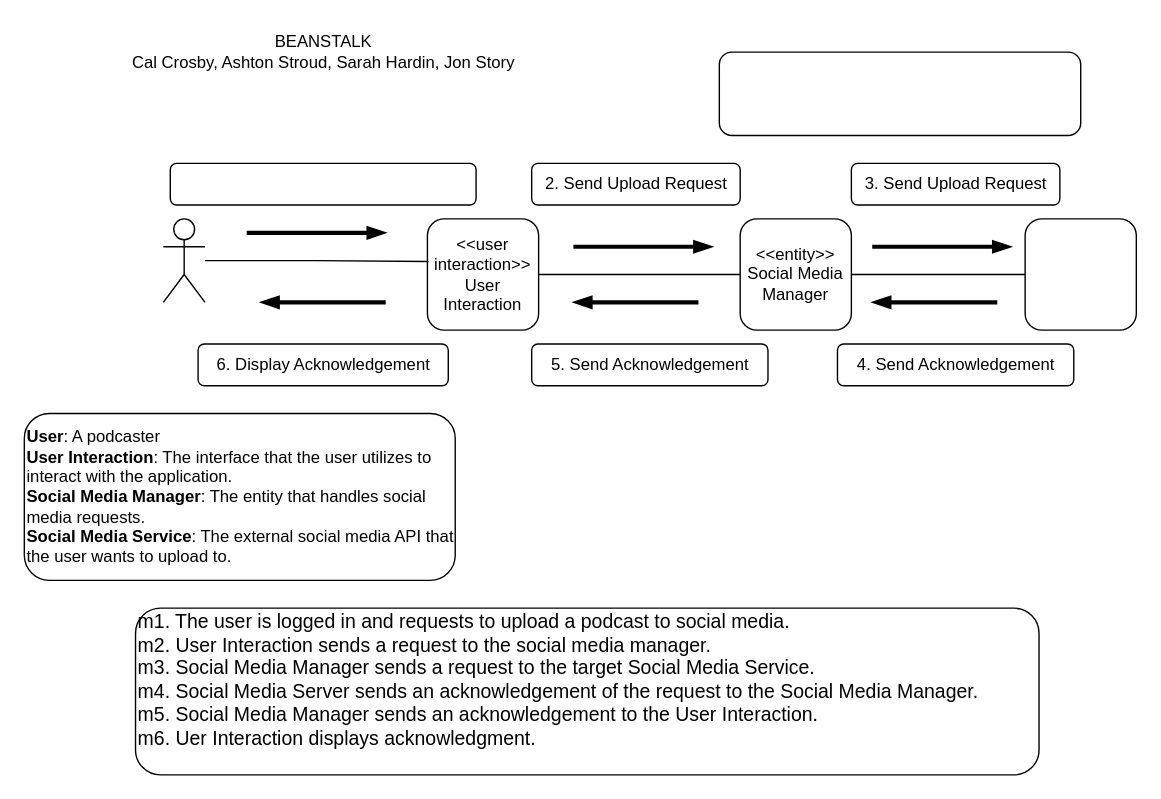
The diagram is 1161 pixels wide and 799 high, and some of its shapes have lost their labels. Here are the shapes that lost their labels. From the top down, the centre of each, then its label:
pixel 899 93: Social Media Interaction Diagram
pixel 322 183: 1. Request to Upload to Social Media
pixel 183 260: User
pixel 1080 274: <<external system>> Social Media Service
